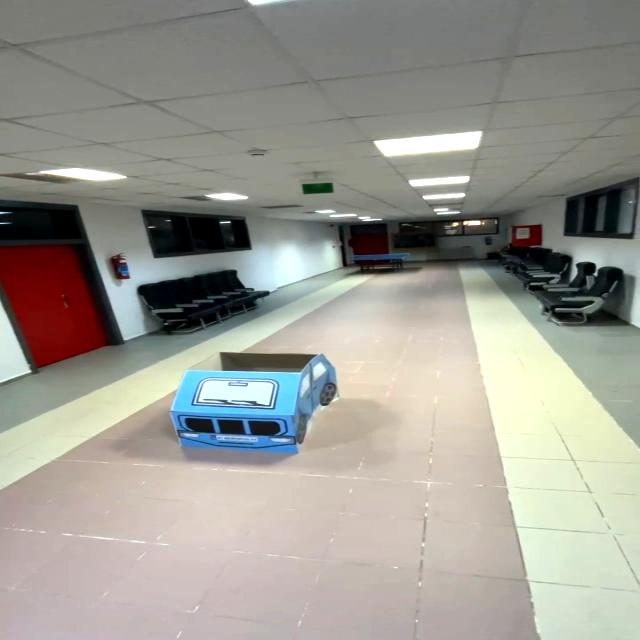blue_car: (135, 326, 401, 469)
